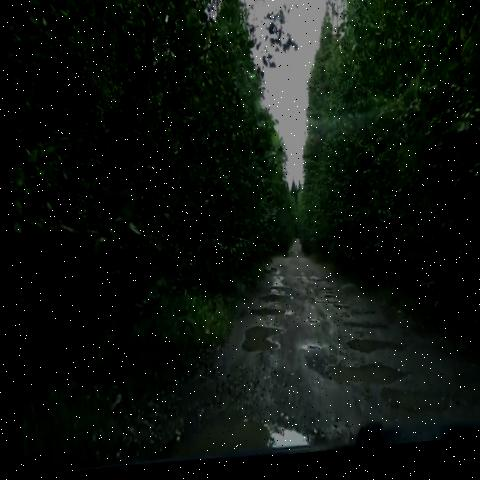pothole: (152, 405, 312, 467), (309, 350, 405, 402), (372, 383, 453, 435), (234, 323, 285, 377), (335, 332, 406, 367), (238, 306, 298, 329), (249, 292, 290, 313), (261, 268, 287, 296), (294, 340, 318, 369), (323, 303, 346, 321), (300, 321, 318, 339), (311, 290, 333, 304)
